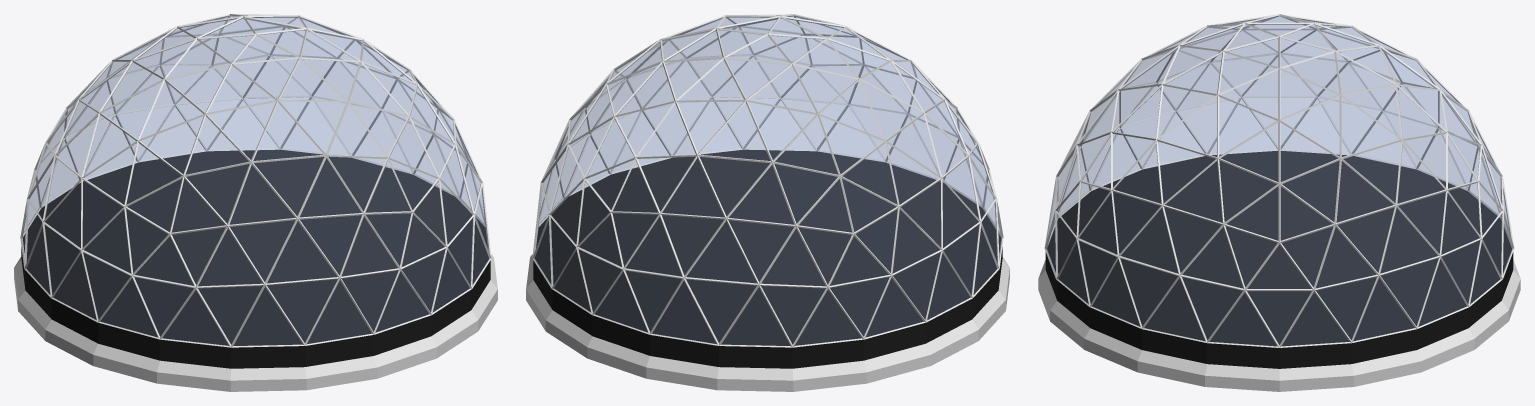
File: Bubble Model.fbx
3 renders of one model, left to right at view 1: azimuth 30°, elevation 25°; view 2: azimuth 150°, elevation 25°; view 3: azimuth 270°, elevation 25°, orthographic.
Parts seen in each view (by area): view 1: Bubble_Sphere, Bubble_Platform; view 2: Bubble_Sphere, Bubble_Platform; view 3: Bubble_Sphere, Bubble_Platform.
Part boxes in pixels (x1,y1,x2,y2): Bubble_Sphere: (20, 14, 491, 347); Bubble_Platform: (14, 149, 497, 391); Bubble_Sphere: (532, 14, 1003, 347); Bubble_Platform: (526, 149, 1009, 391); Bubble_Sphere: (1044, 14, 1514, 347); Bubble_Platform: (1038, 150, 1520, 391).
Size of the model in its own units: 20632 by 11995 by 20632.
